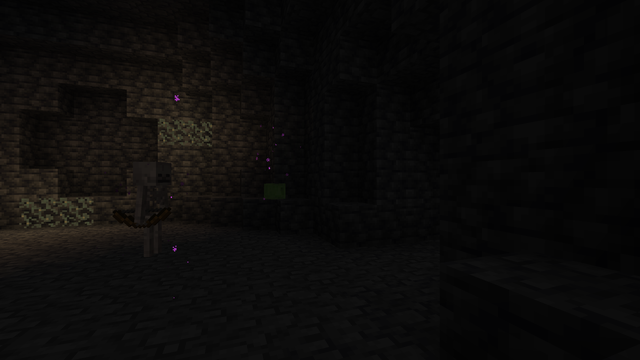slimes: (265, 182, 283, 198)
squelettes: (131, 161, 170, 259)
